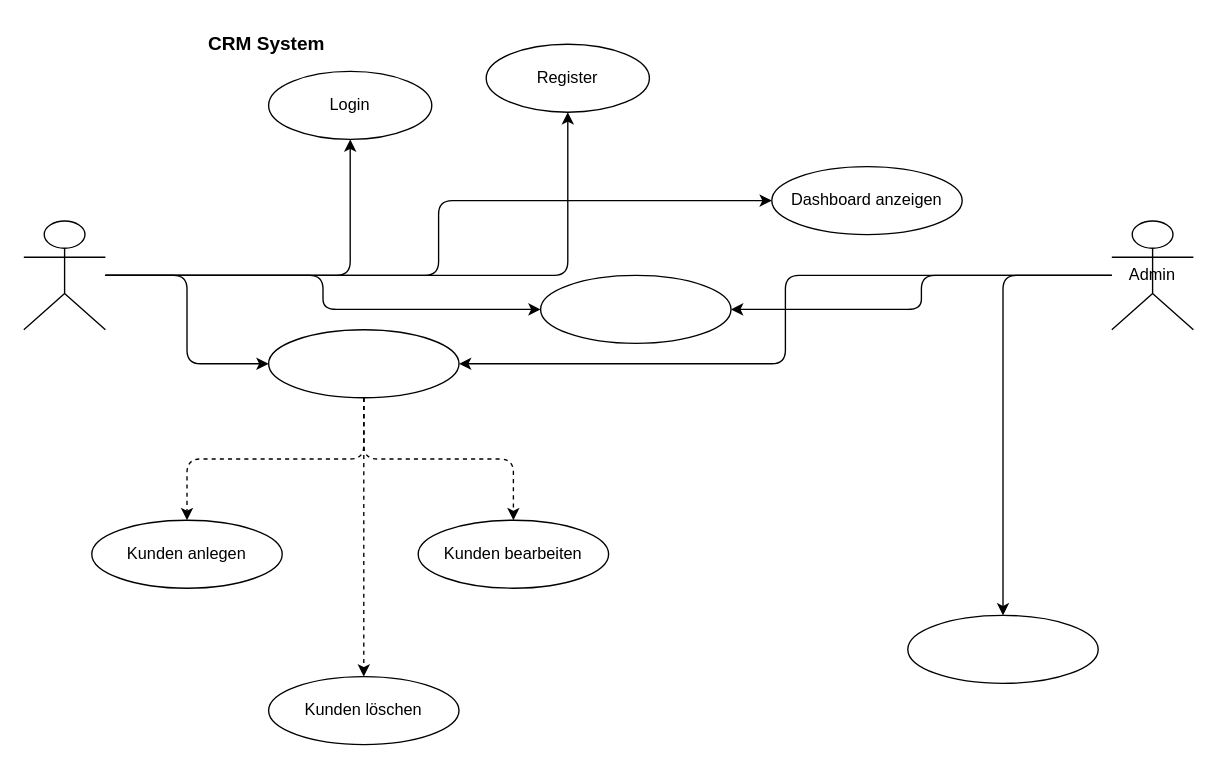
Image size: 1217x768. Some labels were removed from this diagram. Here are the shapes that lost their labels. From the top down, the centre of each, then its label:
At (x=63, y=275): "Sales User".
At (x=635, y=308): "Leads verwalten".
At (x=363, y=363): "Kunden verwalten".
At (x=1002, y=648): "Benutzer verwalten".
